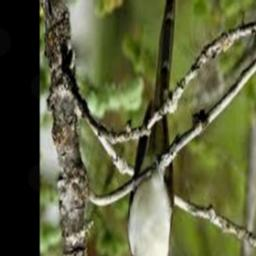Cuckoo: (126, 0, 176, 256)
